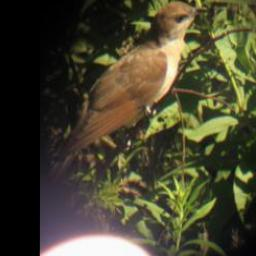Cuckoo: (45, 0, 209, 187)
